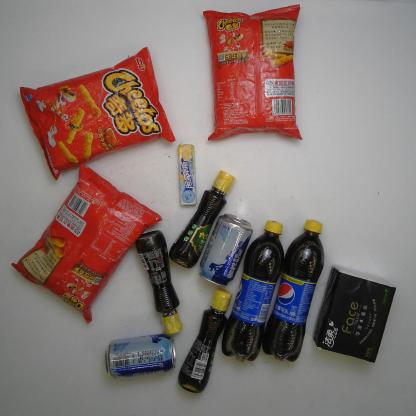Alcohol: (198, 212, 254, 288), (104, 332, 178, 381)
Candy: (177, 141, 198, 210)
Drink: (261, 218, 326, 364), (221, 218, 285, 364)
Puffed Food: (10, 162, 164, 326), (17, 44, 177, 183), (202, 2, 305, 144)
Seasoner: (168, 169, 236, 270), (176, 288, 233, 395), (135, 229, 184, 337)
Tissue: (312, 262, 398, 364)
